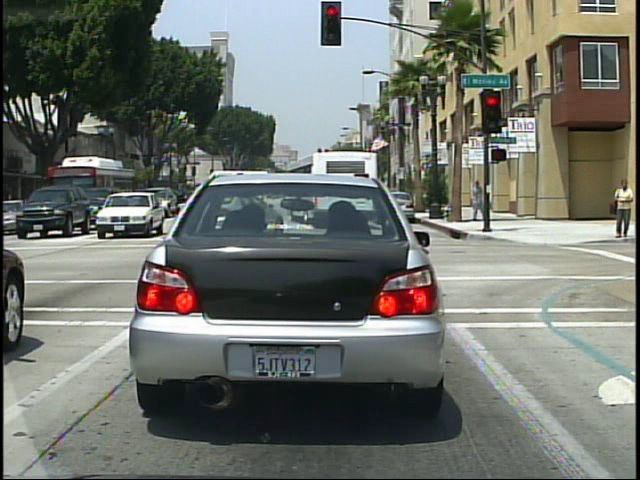person: (609, 178, 634, 240), (472, 179, 487, 224)
